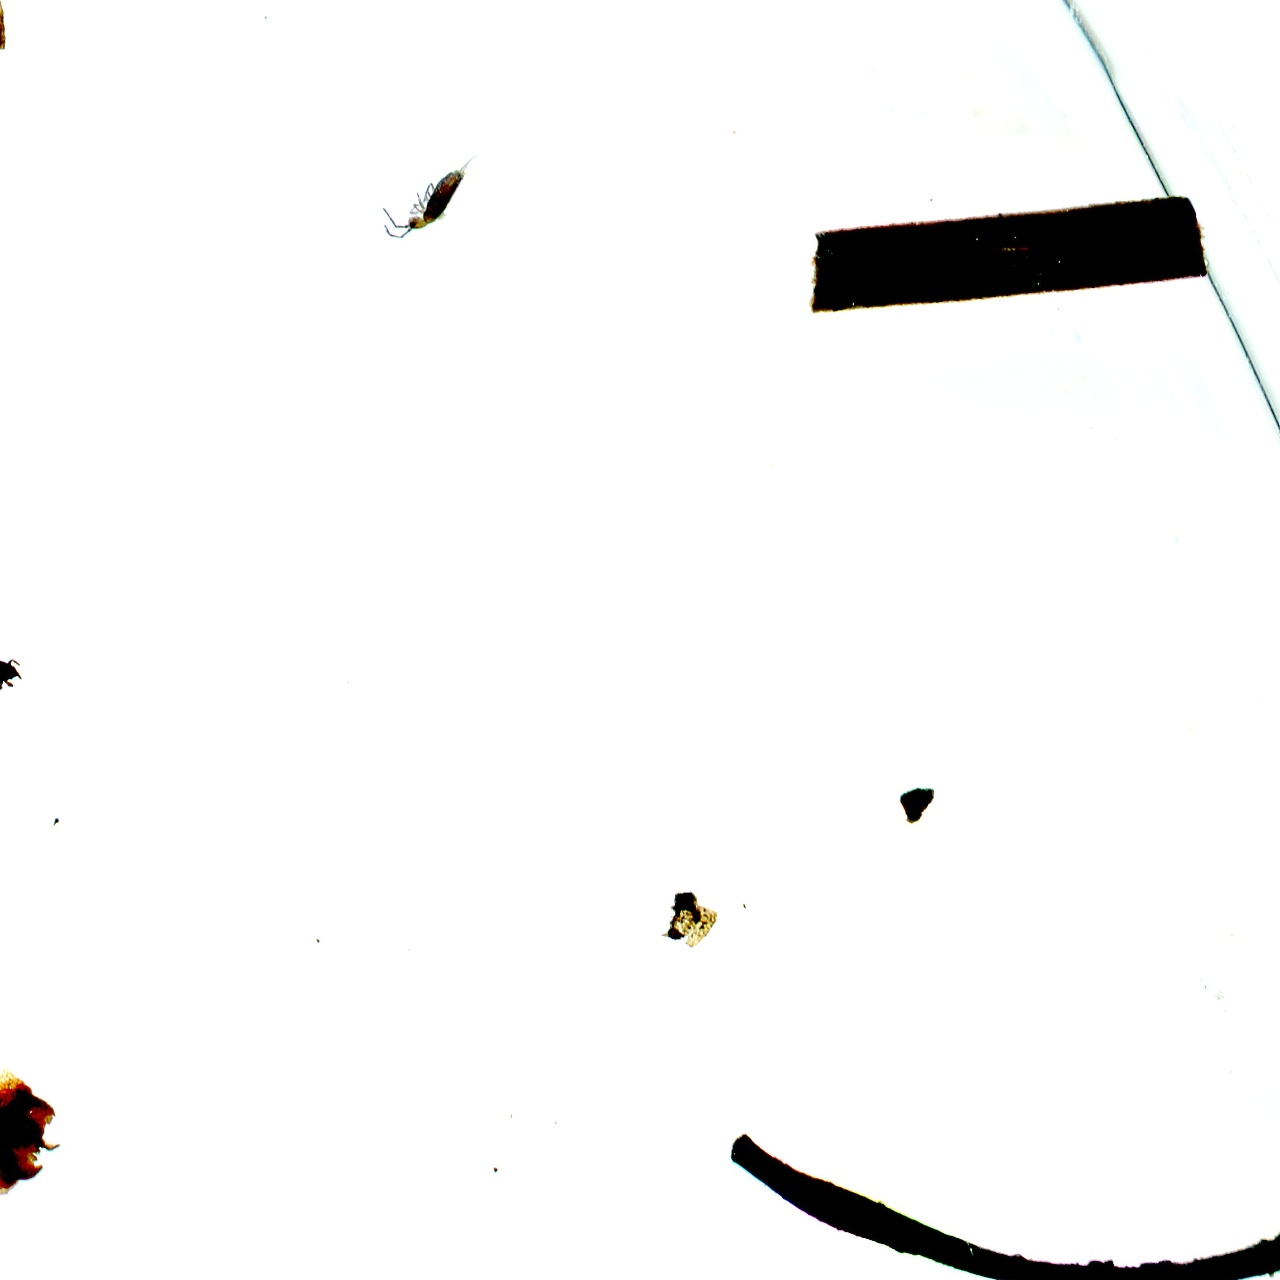arthropod: (366, 112, 495, 264), (0, 649, 31, 698)
